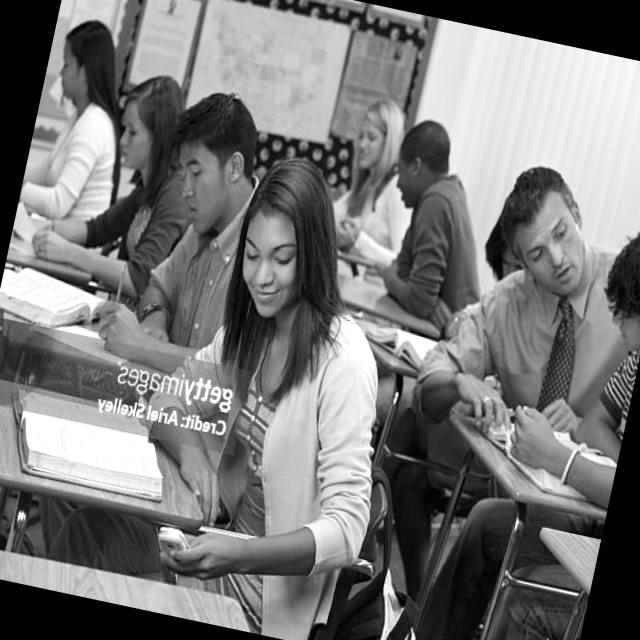phone: (154, 524, 194, 558)
